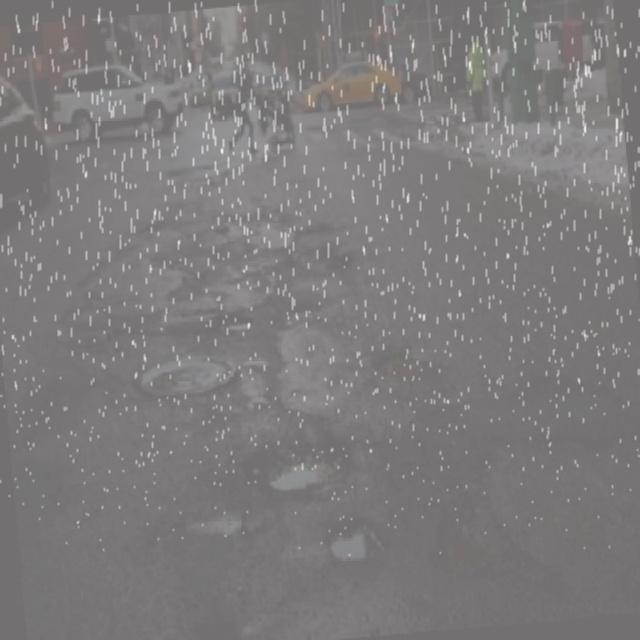Pothole: (262, 306, 394, 437), (214, 210, 308, 313), (96, 222, 188, 312), (258, 452, 346, 500), (320, 524, 391, 574), (177, 501, 247, 547)
